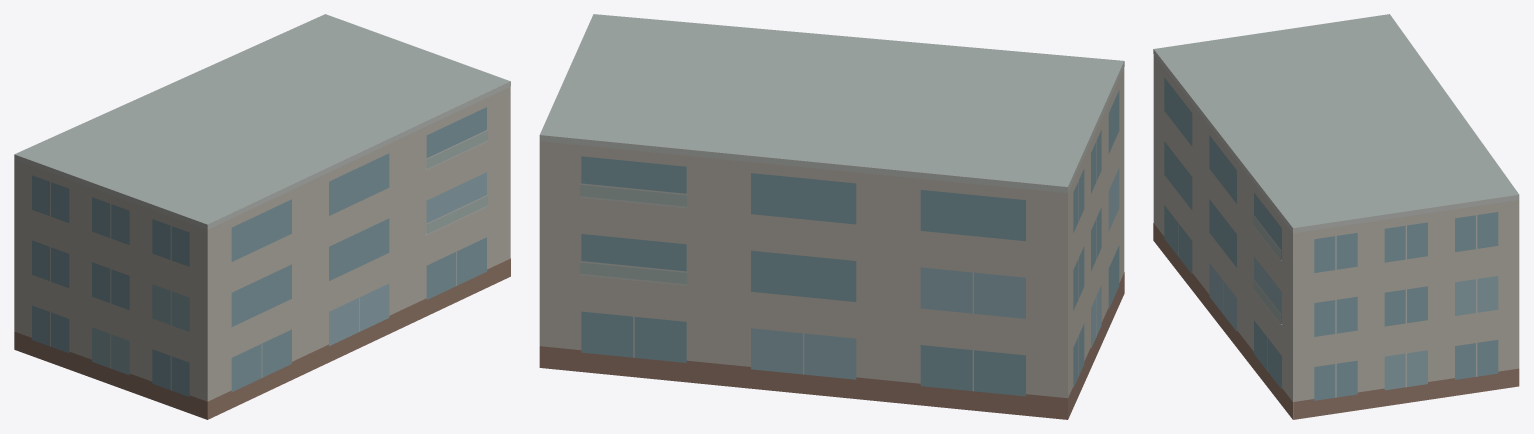
File: survey-upis-33002908.glb
The picture shows the model from 3 angles, left to right: view 1: azimuth 30°, elevation 25°; view 2: azimuth 150°, elevation 25°; view 3: azimuth 270°, elevation 25°; orthographic projection. The views are drawn at different scales.
Visible parts, largest first — view 1: survey-upis-33002908.tmp; view 2: survey-upis-33002908.tmp; view 3: survey-upis-33002908.tmp.
Boxes of the visible parts, bbox=[...] form: survey-upis-33002908.tmp: bbox=[14, 14, 510, 419]; survey-upis-33002908.tmp: bbox=[539, 14, 1124, 419]; survey-upis-33002908.tmp: bbox=[1153, 14, 1519, 419].
Size of the model in its own units: 21.94 by 9.15 by 15.84.
